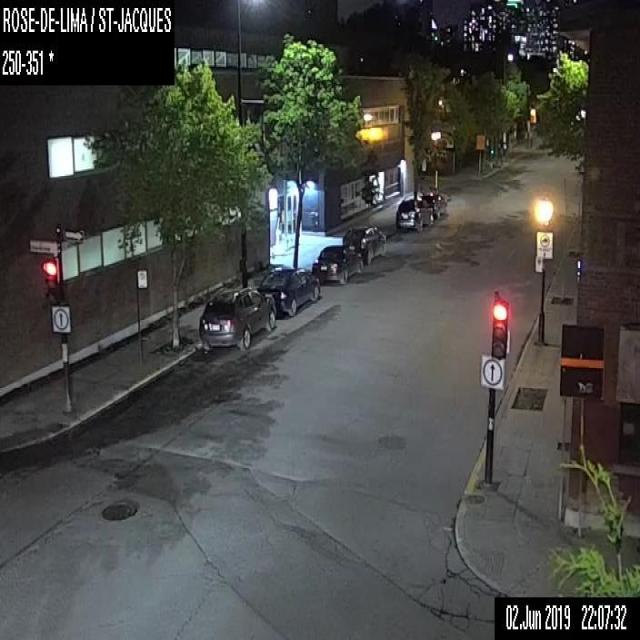construction: (475, 134, 484, 174)
vehicle: (196, 288, 276, 351), (258, 262, 319, 316), (313, 243, 363, 285), (341, 226, 388, 264), (394, 194, 434, 230), (422, 190, 446, 218)
